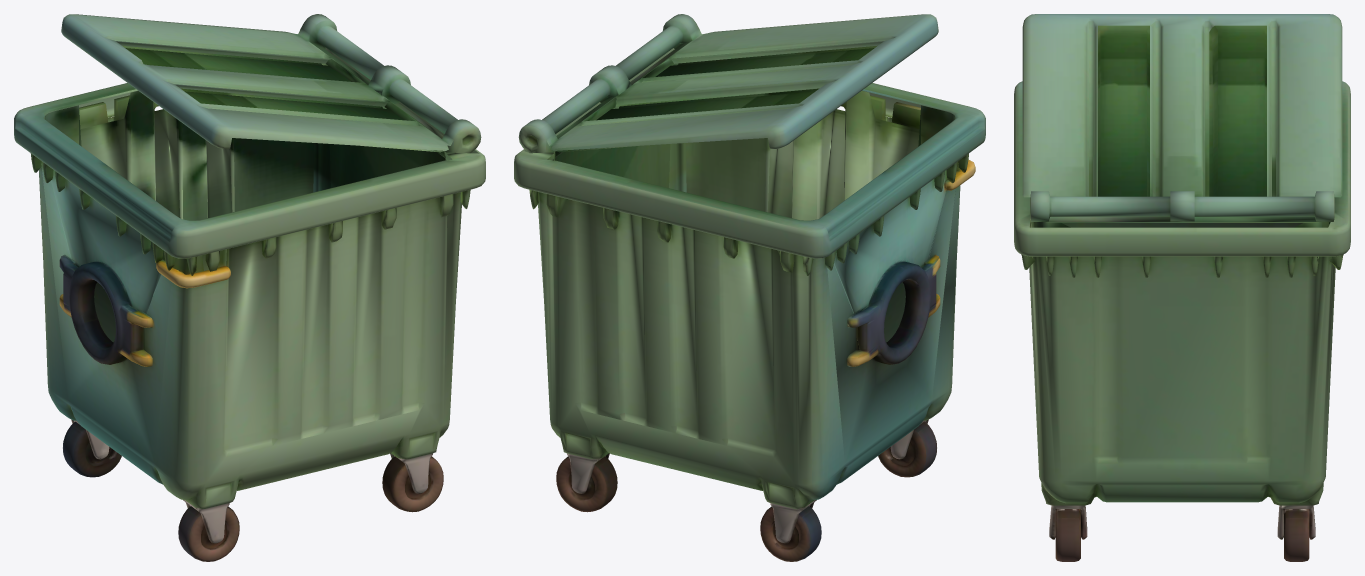
Rendered from dumpster_b076662a_v3.glb.
The picture shows the model from 3 angles, left to right: view 1: azimuth 30°, elevation 25°; view 2: azimuth 150°, elevation 25°; view 3: azimuth 270°, elevation 25°; orthographic projection.
Parts seen in each view (by area): view 1: material; view 2: material; view 3: material.
Boxes of the visible parts, left/top/right/bottom form: material: left=14, top=14, right=485, bottom=561; material: left=514, top=14, right=985, bottom=561; material: left=1014, top=14, right=1350, bottom=561.
Size of the model in its own units: 1.4 by 1.9 by 1.31.
1 material, 1 textured.
